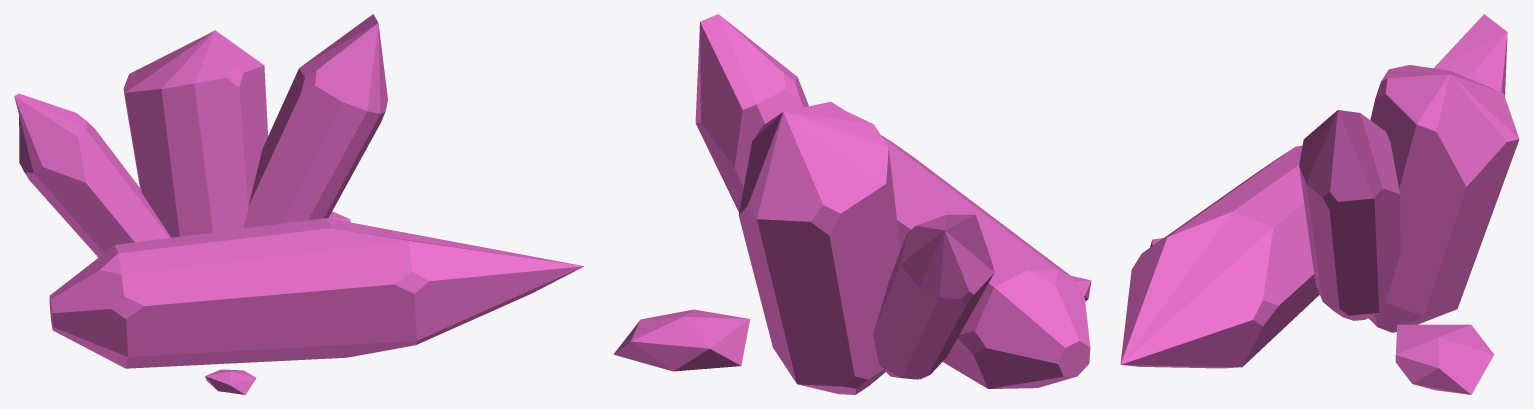
The model's file is crystal3.glb.
3 views of the same model, side by side, from view 1: azimuth 30°, elevation 25°; view 2: azimuth 150°, elevation 25°; view 3: azimuth 270°, elevation 25° (orthographic). The views are drawn at different scales.
Visible parts, largest first — view 1: crystal3; view 2: crystal3; view 3: crystal3.
Boxes of the visible parts, x1,y1,x2,y2 form: crystal3: (14,14,584,394); crystal3: (613,14,1091,394); crystal3: (1120,14,1519,394).
Size of the model in its own units: 4.35 by 2.69 by 3.34.
